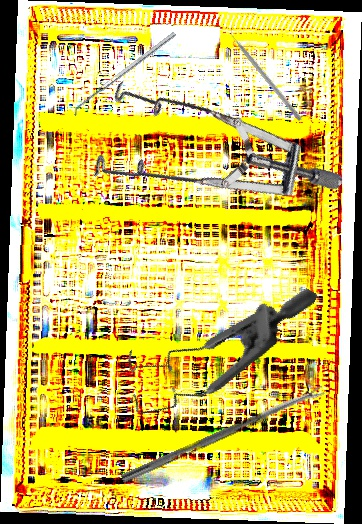Chopper: (224, 23, 308, 122)
Spatula Surgical: (70, 31, 180, 118)
Speculum: (60, 17, 346, 304), (105, 227, 319, 462)
Surgical Spoon: (120, 385, 326, 485)
